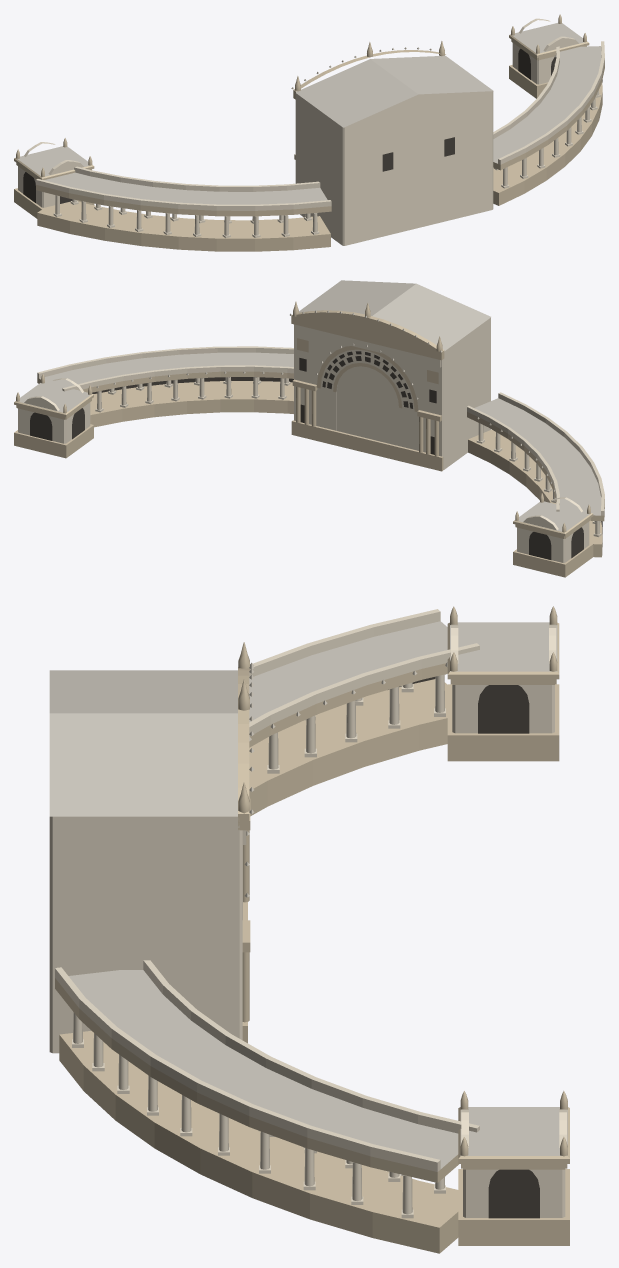
File: sd-spreckels-organ-pavilion.glb
The picture shows the model from 3 angles, top to bottom: view 1: azimuth 30°, elevation 25°; view 2: azimuth 150°, elevation 25°; view 3: azimuth 270°, elevation 25°; orthographic projection. The views are drawn at different scales.
Visible parts, largest first — view 1: Spreckels Organ Pavilion; view 2: Spreckels Organ Pavilion; view 3: Spreckels Organ Pavilion.
Part boxes in pixels (left/top/right/bottom): Spreckels Organ Pavilion: left=14, top=14, right=604, bottom=251; Spreckels Organ Pavilion: left=14, top=280, right=604, bottom=577; Spreckels Organ Pavilion: left=49, top=606, right=569, bottom=1253.
Size of the model in its own units: 86.82 by 22 by 34.54.
